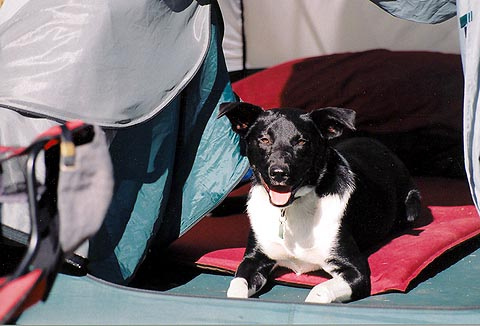dog: (216, 102, 436, 307)
